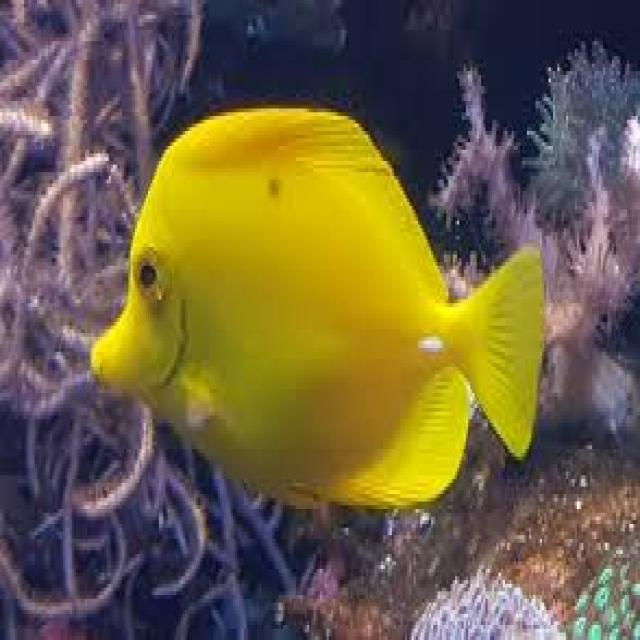YellowTang: (83, 94, 558, 531)
